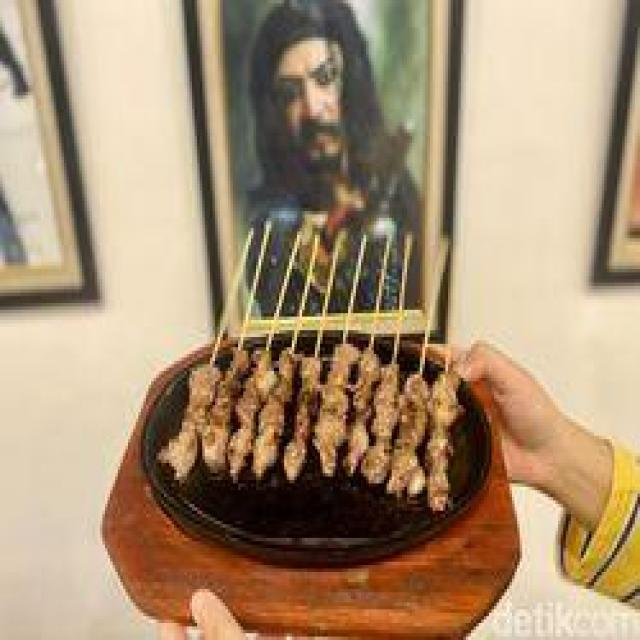Sate: (192, 237, 478, 526)
